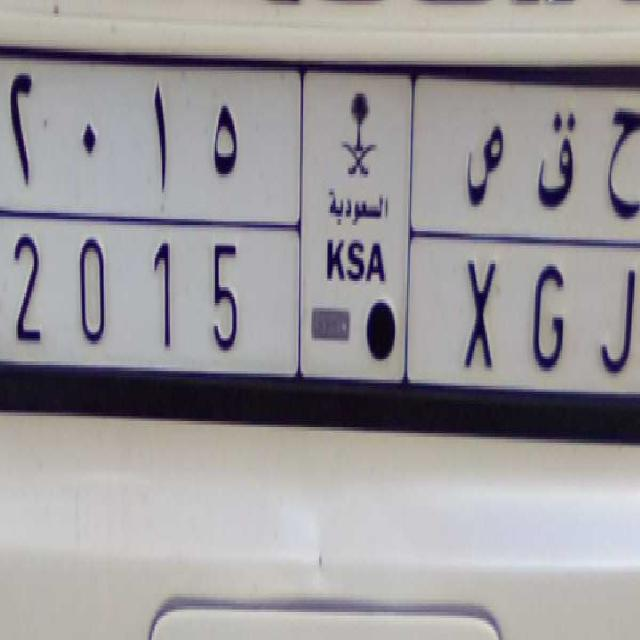license_plate: (2, 200, 640, 393)
